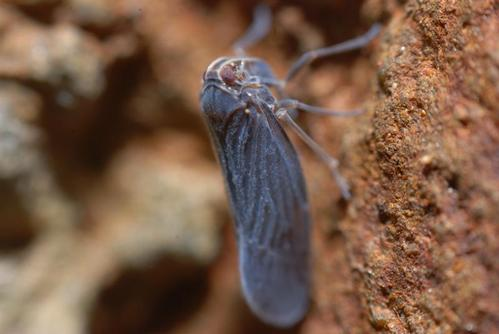Delphacidae: (199, 2, 382, 327)
